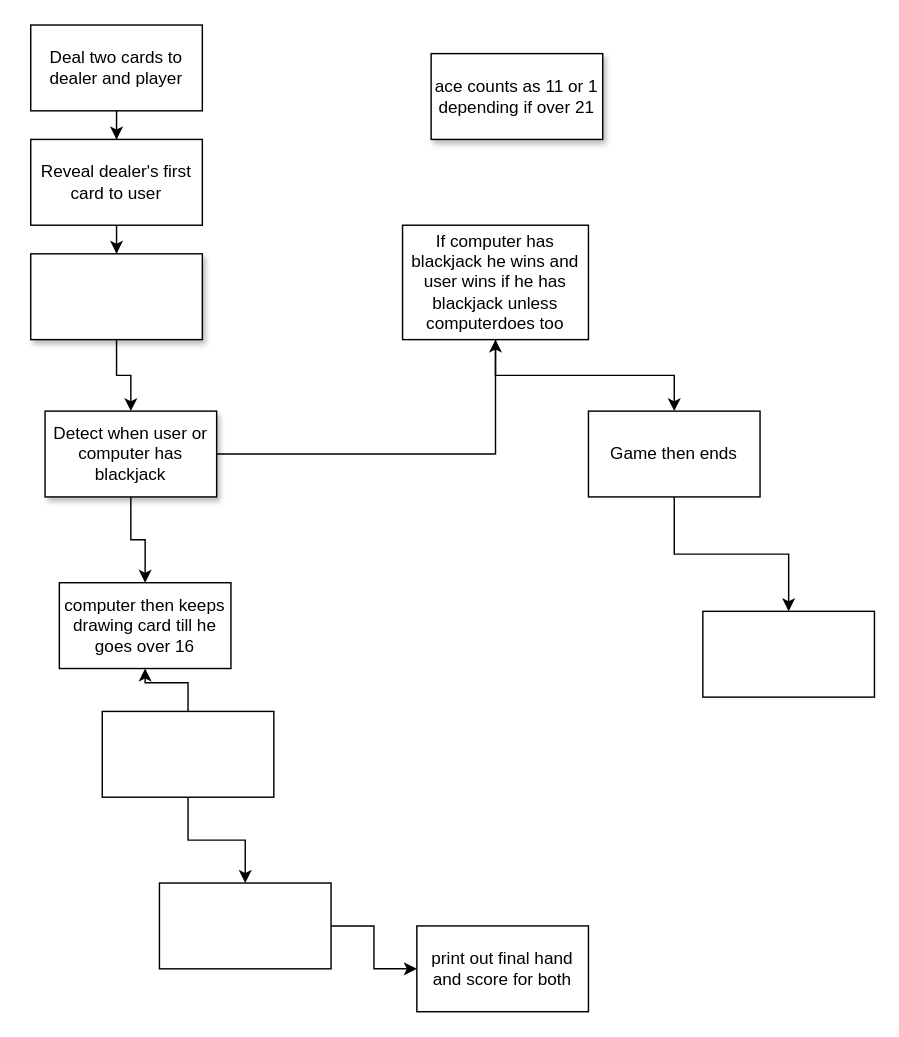
The diagram is 899 pixels wide and 1037 high, and some of its shapes have lost their labels. The shapes that lost their labels are listed below. From the top down, each one's centre as x and y in pixels, then its label:
At (x=117, y=298): "calculate card values for comp and user".
At (x=787, y=653): "Ask player if he wants to play again".
At (x=187, y=753): "Ask dealer if they want another card".
At (x=244, y=925): "Compare user and computer scores to see who wins".
